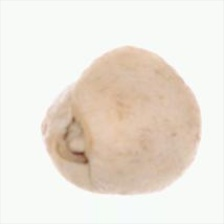L3: (54, 116, 96, 164)
L4: (40, 45, 201, 195)
